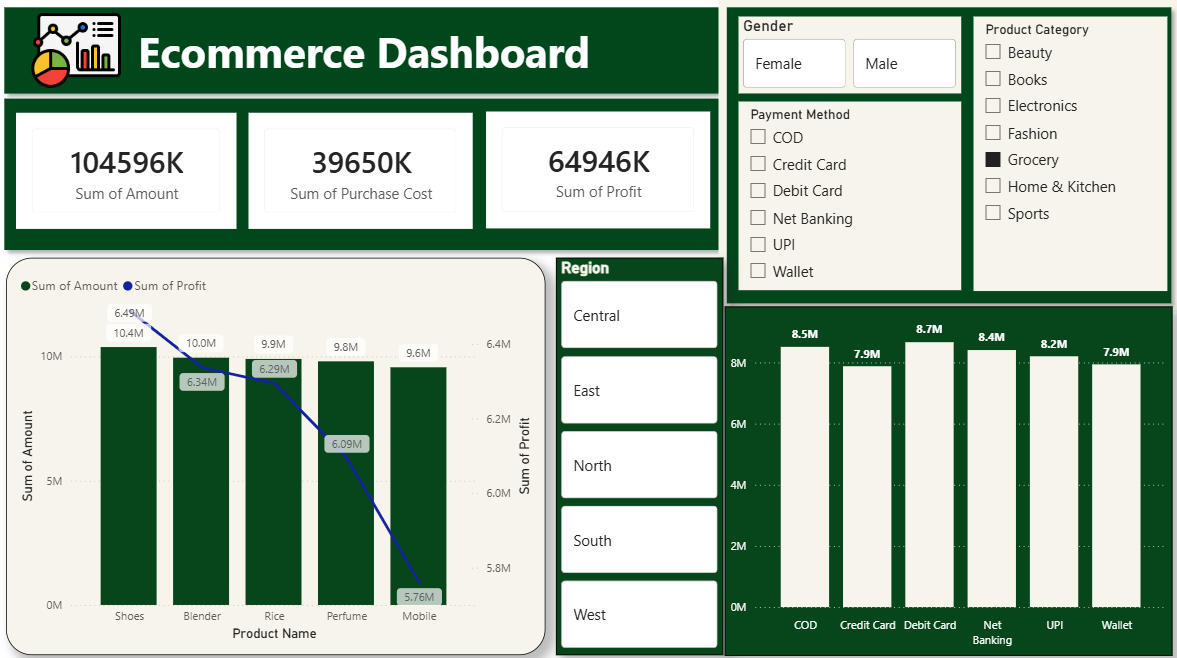

Layout of this report page (visuals, bound fields, positions):
{"tool":"powerbi","page":{"name":"Page 1","canvas":[1280,720],"ordinal":0},"visuals":[{"type":"shape","box":[0,0,795.8,111.3],"z":0},{"type":"shape","box":[0,98.6,795.8,181.7],"z":1000},{"type":"shape","box":[781.7,0,498.6,338],"z":2000},{"type":"advancedSlicerVisual","fields":{"Values":["Ecommerce Sales Data.Gender"]},"box":[802.8,18.3,240.8,83.1],"z":3000},{"type":"slicer","fields":{"Values":["Ecommerce Sales Data.Product Category"]},"box":[1056.3,18.3,209.9,297.2],"z":4000},{"type":"slicer","fields":{"Values":["Ecommerce Sales Data.Payment Method"]},"box":[802.8,111.3,240.8,204.2],"z":5000},{"type":"cardVisual","fields":{"Data":["Sum(Ecommerce Sales Data.Amount)"]},"box":[21.1,122.5,238,125.4],"z":6000},{"type":"cardVisual","fields":{"Data":["Sum(Ecommerce Sales Data.Purchase Cost)"]},"box":[273.2,122.5,242.3,125.4],"z":7000},{"type":"cardVisual","fields":{"Data":["Sum(Ecommerce Sales Data.Profit)"]},"box":[529.6,121.1,242.3,126.8],"z":8000},{"type":"lineClusteredColumnComboChart","fields":{"Y":["Sum(Ecommerce Sales Data.Amount)"],"Category":["Ecommerce Sales Data.Product Name"],"Y2":["Sum(Ecommerce Sales Data.Profit)"]},"box":[11,279.9,583.2,429.5],"z":9000},{"type":"advancedSlicerVisual","fields":{"Values":["Ecommerce Sales Data.Region"]},"box":[605.1,279.9,181.1,429.5],"z":10000},{"type":"lineClusteredColumnComboChart","fields":{"Y":["Sum(Ecommerce Sales Data.Amount)"],"Category":["Ecommerce Sales Data.Payment Method","Ecommerce Sales Data.City"]},"box":[787.7,332.1,484.4,377.4],"z":11000},{"type":"image","box":[5.5,4.1,161.9,102.9],"z":12000}]}

Visuals, with their boxes in screenshot pixels (x1, y1, x2, y2), scaled from the page's 1280x720 canvas onto the 1177x658 screenshot:
shape: [x1=0, y1=0, x2=732, y2=102]
shape: [x1=0, y1=90, x2=732, y2=256]
shape: [x1=719, y1=0, x2=1176, y2=309]
advancedSlicerVisual - Ecommerce Sales Data.Gender: [x1=738, y1=17, x2=960, y2=93]
slicer - Ecommerce Sales Data.Product Category: [x1=971, y1=17, x2=1164, y2=288]
slicer - Ecommerce Sales Data.Payment Method: [x1=738, y1=102, x2=960, y2=288]
cardVisual - Sum(Ecommerce Sales Data.Amount): [x1=19, y1=112, x2=238, y2=227]
cardVisual - Sum(Ecommerce Sales Data.Purchase Cost): [x1=251, y1=112, x2=474, y2=227]
cardVisual - Sum(Ecommerce Sales Data.Profit): [x1=487, y1=111, x2=710, y2=227]
lineClusteredColumnComboChart - Sum(Ecommerce Sales Data.Amount) x Ecommerce Sales Data.Product Name: [x1=10, y1=256, x2=546, y2=648]
advancedSlicerVisual - Ecommerce Sales Data.Region: [x1=556, y1=256, x2=723, y2=648]
lineClusteredColumnComboChart - Sum(Ecommerce Sales Data.Amount) x Ecommerce Sales Data.Payment Method: [x1=724, y1=304, x2=1170, y2=648]
image: [x1=5, y1=4, x2=154, y2=98]
